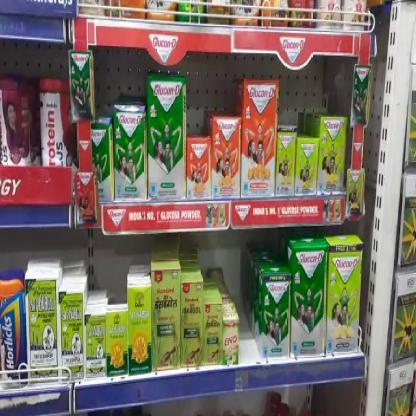Glucon D Nimbu Pani 1-KG: (327, 244, 361, 354), (318, 115, 346, 196)
Glucon D Regular 1-KG: (147, 80, 185, 198)
Glucon D Tangy orange 1-KG: (244, 79, 276, 196)
